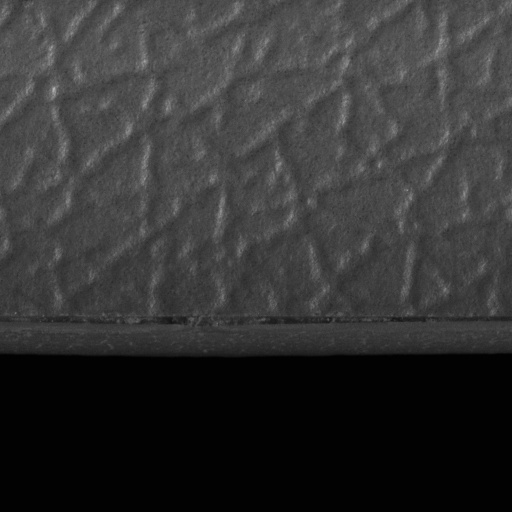jiaofeng: (389, 313, 511, 326), (29, 316, 124, 328), (138, 314, 189, 327), (262, 316, 333, 324)
